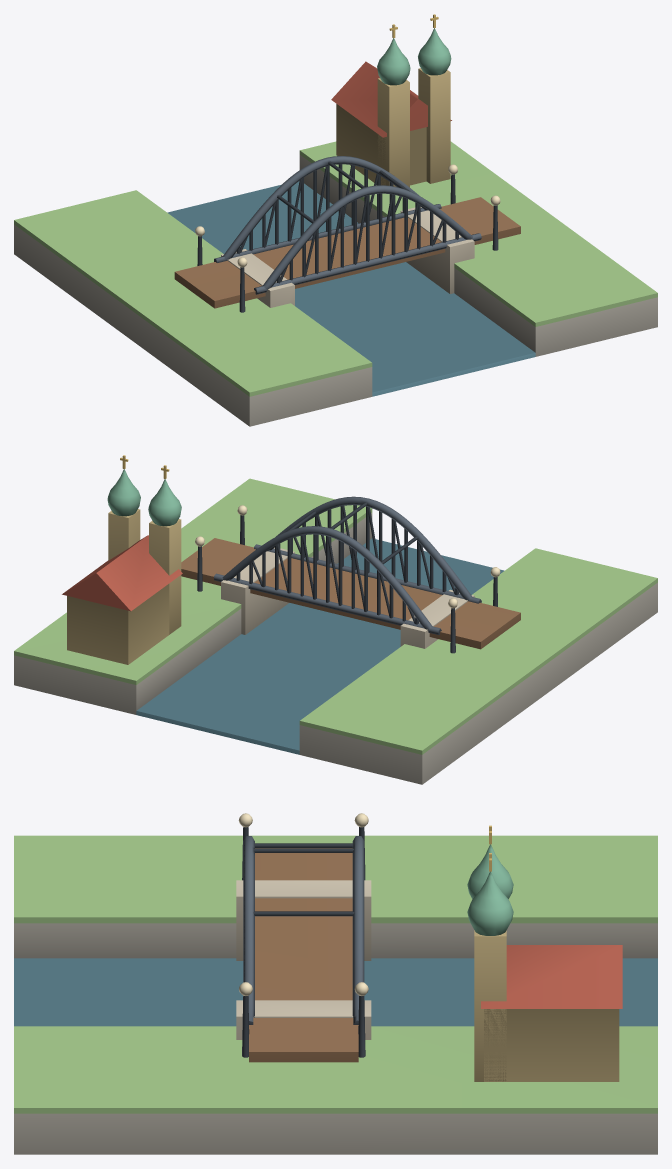
Rendered from lugoj.glb.
3 views of the same model, one above another, from view 1: azimuth 30°, elevation 25°; view 2: azimuth 150°, elevation 25°; view 3: azimuth 270°, elevation 25° (orthographic). The views are drawn at different scales.
Visible parts, largest first — view 1: lugoj_grass, lugoj_water, lugoj_stoneGray, lugoj_iron, lugoj_wood, lugoj_ochre, lugoj_stone, lugoj_roofRed, lugoj_domeGreen; view 2: lugoj_grass, lugoj_water, lugoj_stoneGray, lugoj_iron, lugoj_ochre, lugoj_wood, lugoj_roofRed, lugoj_stone, lugoj_domeGreen; view 3: lugoj_grass, lugoj_stoneGray, lugoj_water, lugoj_wood, lugoj_ochre, lugoj_roofRed, lugoj_iron, lugoj_stone, lugoj_domeGreen, lugoj_cream.
Boxes of the visible parts, box(x1,y1,x2,y2) form: lugoj_grass: box(14, 141, 657, 396); lugoj_water: box(167, 181, 535, 396); lugoj_stoneGray: box(14, 155, 657, 426); lugoj_iron: box(197, 156, 498, 312); lugoj_wood: box(174, 197, 520, 308); lugoj_ochre: box(336, 68, 450, 187); lugoj_stone: box(221, 207, 474, 307); lugoj_roofRed: box(331, 61, 451, 137); lugoj_domeGreen: box(377, 28, 451, 85); lugoj_grass: box(14, 478, 657, 754); lugoj_water: box(136, 538, 504, 754); lugoj_stoneGray: box(14, 513, 657, 784); lugoj_iron: box(197, 496, 497, 653); lugoj_ochre: box(67, 509, 181, 664); lugoj_wood: box(181, 538, 520, 649); lugoj_roofRed: box(62, 535, 182, 611); lugoj_stone: box(221, 547, 474, 648); lugoj_domeGreen: box(107, 469, 181, 526); lugoj_grass: box(14, 835, 657, 1113); lugoj_stoneGray: box(14, 923, 657, 1154); lugoj_water: box(14, 958, 657, 1026); lugoj_wood: box(249, 848, 358, 1062); lugoj_ochre: box(474, 930, 619, 1081); lugoj_roofRed: box(481, 945, 622, 1008); lugoj_iron: box(242, 827, 365, 1057); lugoj_stone: box(236, 880, 371, 1039); lugoj_domeGreen: box(467, 844, 513, 935); lugoj_cream: box(238, 813, 368, 995).
Bounding box in the file's own units: 2 × 0.92 × 2.
